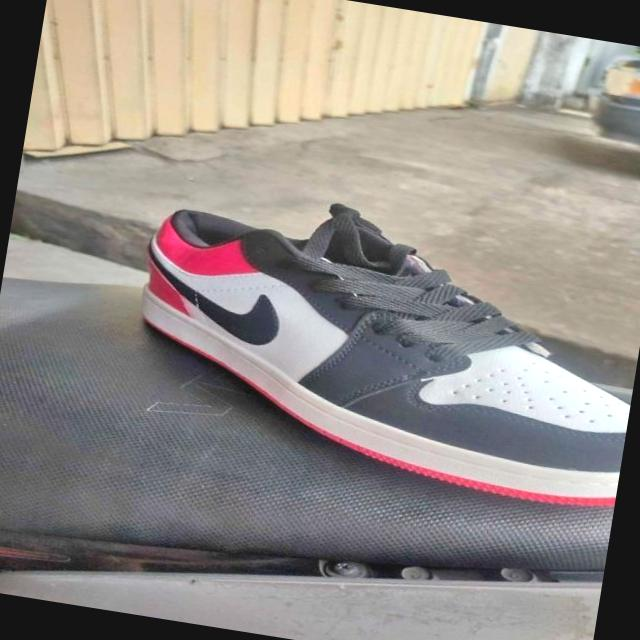nike_fake_jordan: (113, 173, 640, 517)
